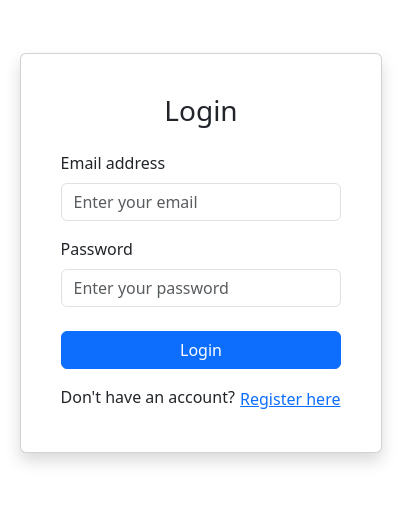
Scenario: Login Component › should display error message on failed login attempt
Type "test@example.com" into the field labelled "Email address" at [201, 202], box [60,183,341,221]
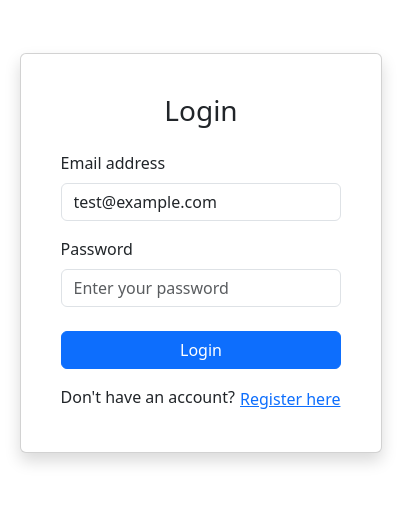
Type "wrongpassword" into the password field labelled "Password" at [201, 288], box [60,269,341,307]
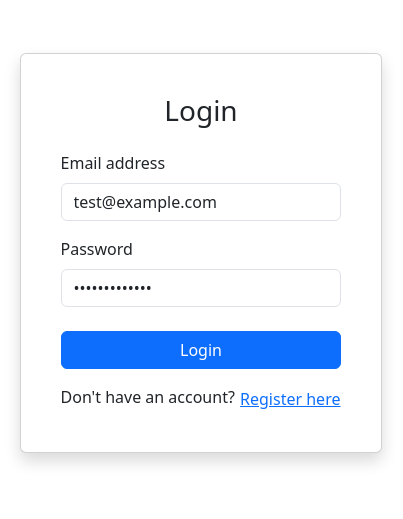
Click the button "Login" at [201, 350], box [60,331,341,369]
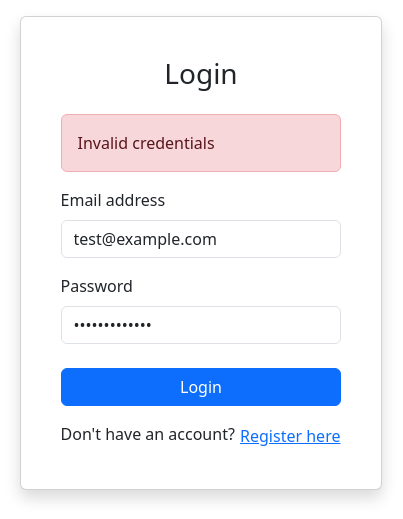
Result: the text "Invalid credentials" is shown at [60,114,341,172]
